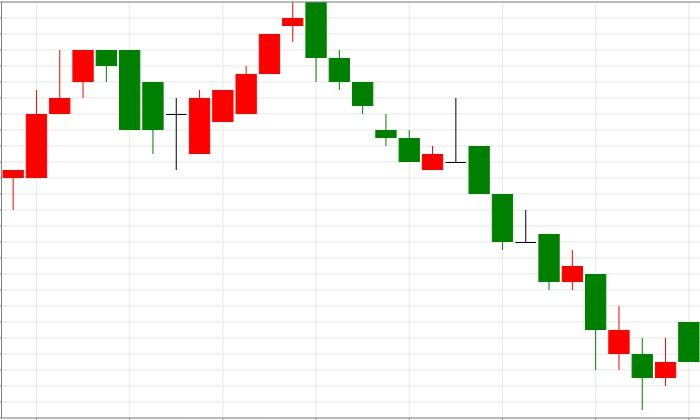bearish_engulfing_fall: (188, 2, 326, 154)
